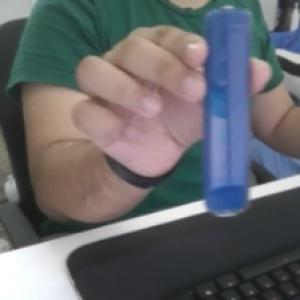Diamond-E-Ciggirate: (202, 7, 253, 220)
